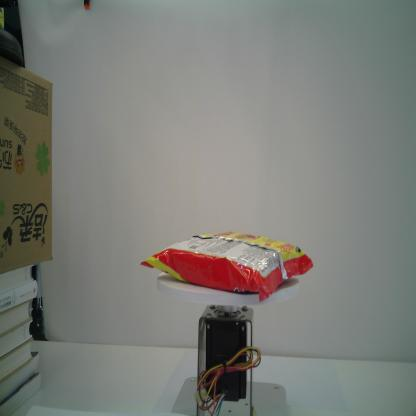Instant Noodles: (139, 232, 314, 302)
